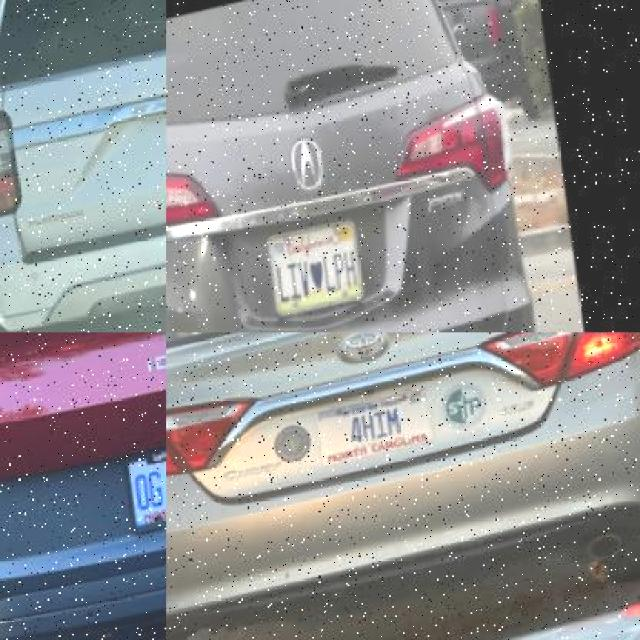licenseplate: (259, 198, 376, 325), (318, 387, 438, 470), (128, 452, 166, 537)
